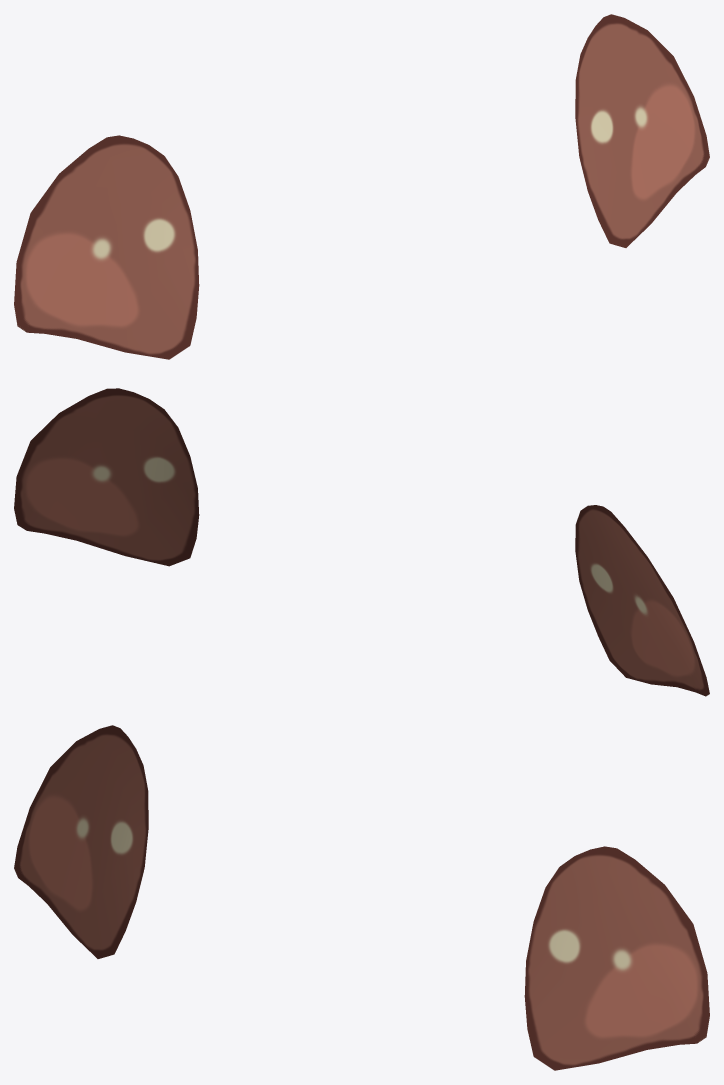
The model's file is SK_Hamster_Eyes.fbx.
3 views of the same model, one above another, from view 1: azimuth 30°, elevation 25°; view 2: azimuth 150°, elevation 25°; view 3: azimuth 330°, elevation 25° (orthographic).
Parts seen in each view (by area): view 1: SK_Hamster_Eyes; view 2: SK_Hamster_Eyes; view 3: SK_Hamster_Eyes.
Part boxes in pixels (<box>): SK_Hamster_Eyes: <box>14,14,709,359</box>; SK_Hamster_Eyes: <box>14,388,709,696</box>; SK_Hamster_Eyes: <box>14,725,709,1070</box>.
Bounding box in the file's own units: 4.8 × 1.33 × 0.5742.
